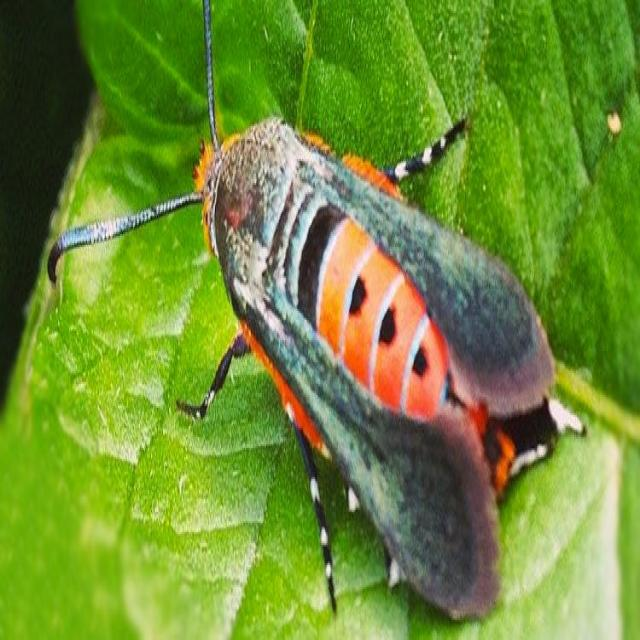squash_vine_borer: (39, 8, 568, 628)
